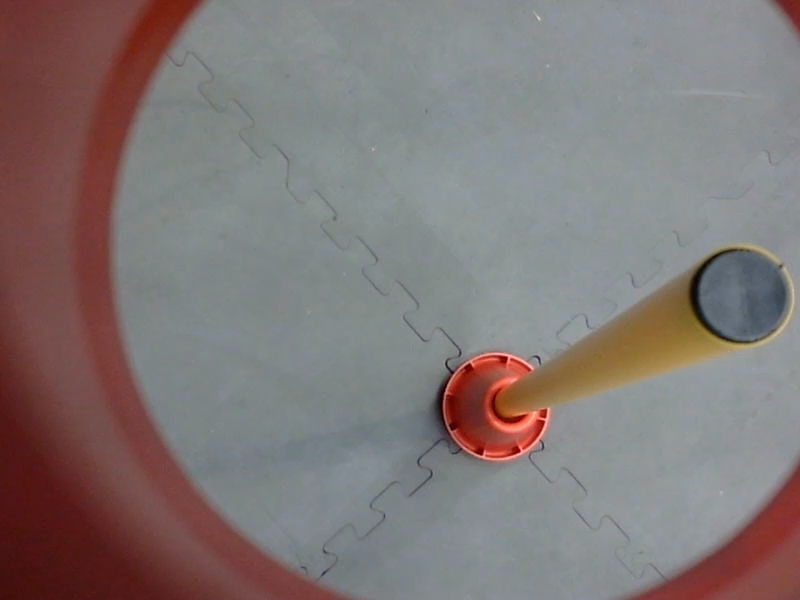tip: (683, 235, 800, 354)
